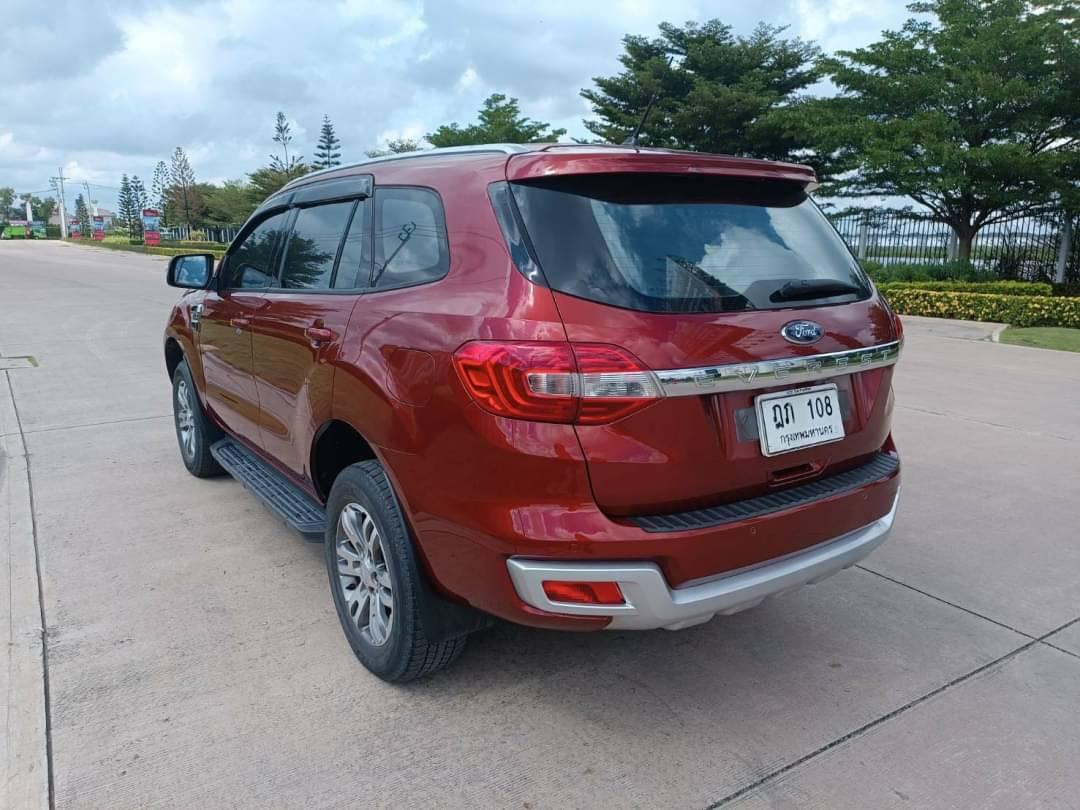license-plate: (753, 379, 852, 461)
